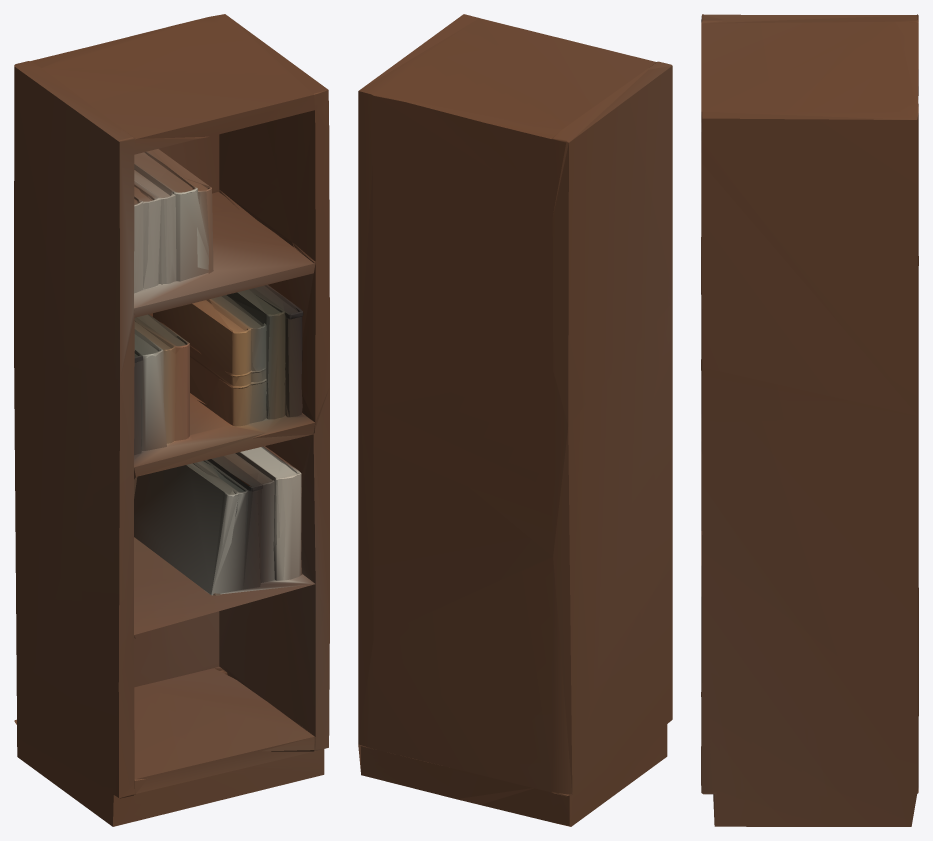
Rendered from bookshelf.glb.
The picture shows the model from 3 angles, left to right: view 1: azimuth 30°, elevation 25°; view 2: azimuth 150°, elevation 25°; view 3: azimuth 270°, elevation 25°; orthographic projection. The views are drawn at different scales.
Size of the model in its own units: 0.6102 by 1.9 by 0.5296.
